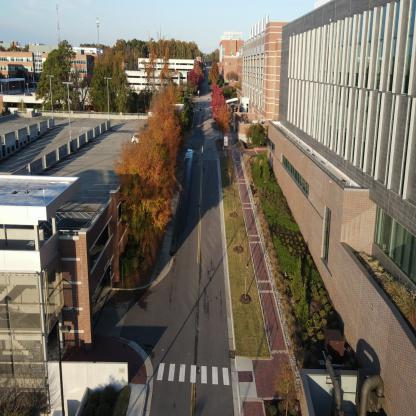EB-1: (228, 14, 278, 160)
Fitts- Woolard: (282, 17, 415, 414)
